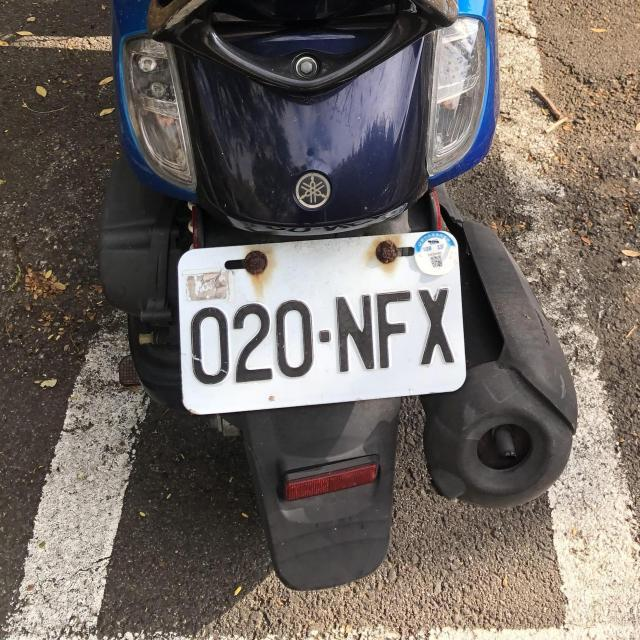W: (168, 231, 466, 414)
